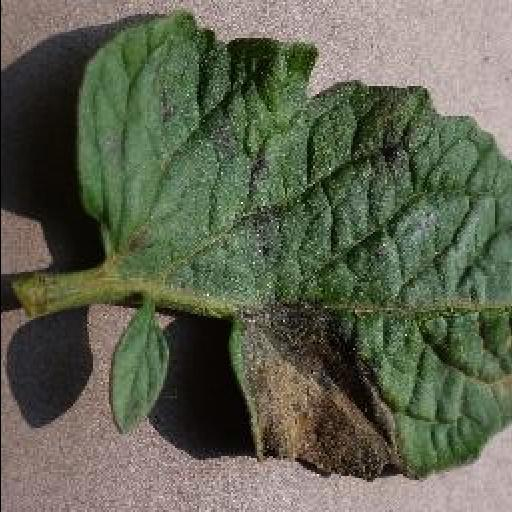disease_tomato: (74, 4, 512, 484)
